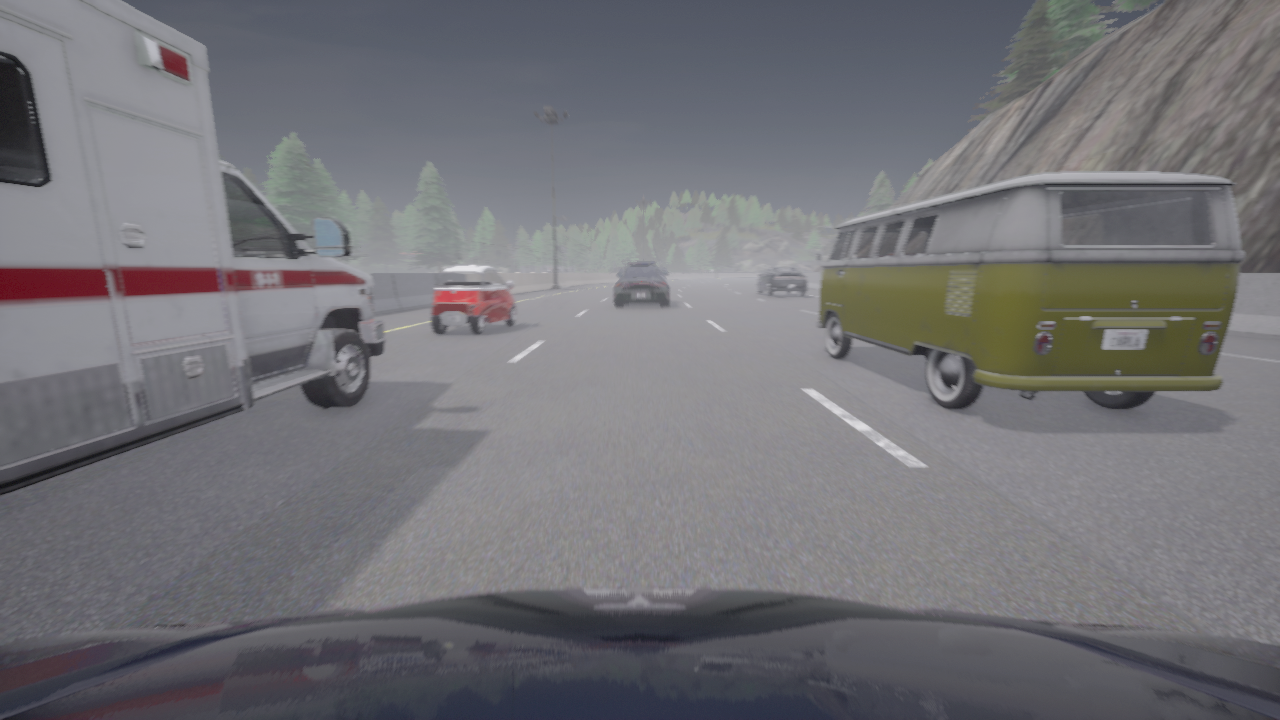cyclist: (0, 588, 1279, 719), (816, 172, 1244, 409), (431, 265, 516, 334), (614, 262, 668, 306), (757, 267, 806, 296)
